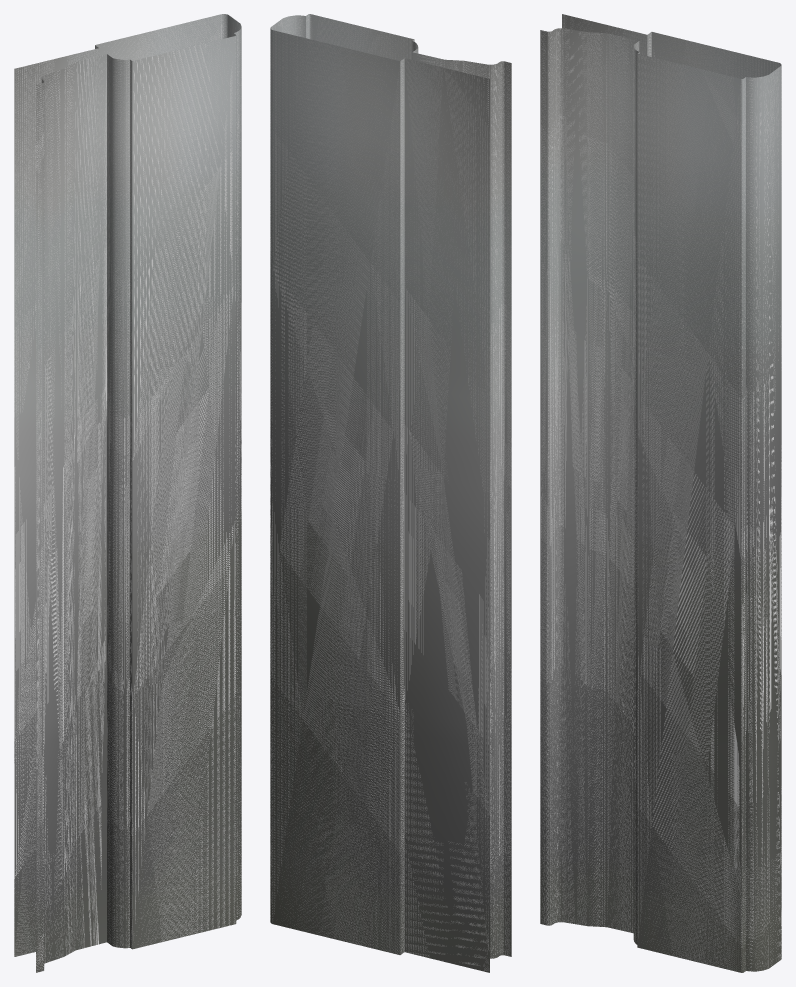
Rendered from original-45.obj.
3 views of the same model, side by side, from view 1: azimuth 30°, elevation 25°; view 2: azimuth 150°, elevation 25°; view 3: azimuth 330°, elevation 25° (orthographic).
Visible parts, largest first — view 1: LT_11_CR1/LT_11_CR/mesh36/mesh36-geometry#mesh36-geometry; view 2: LT_11_CR1/LT_11_CR/mesh36/mesh36-geometry#mesh36-geometry; view 3: LT_11_CR1/LT_11_CR/mesh36/mesh36-geometry#mesh36-geometry.
Part boxes in pixels (x1=…): LT_11_CR1/LT_11_CR/mesh36/mesh36-geometry#mesh36-geometry: x1=14, y1=14, x2=241, y2=972; LT_11_CR1/LT_11_CR/mesh36/mesh36-geometry#mesh36-geometry: x1=270, y1=14, x2=511, y2=972; LT_11_CR1/LT_11_CR/mesh36/mesh36-geometry#mesh36-geometry: x1=540, y1=14, x2=781, y2=972.
Bounding box in the file's own units: 0.1375 × 0.5406 × 0.0285.
